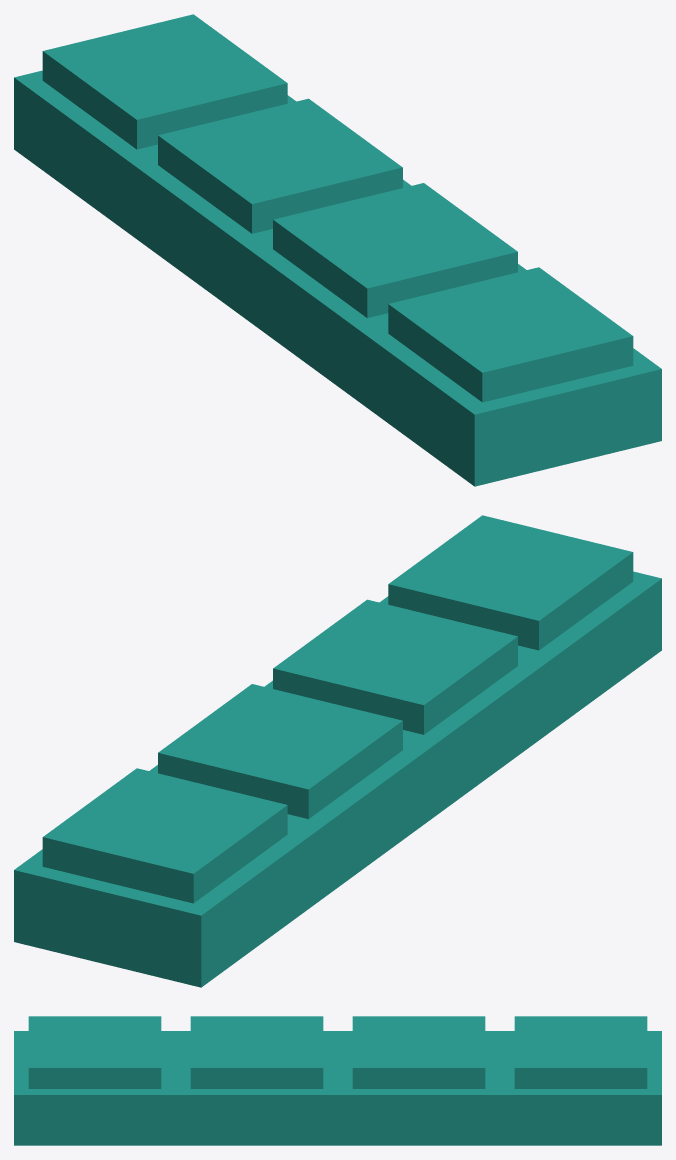
Rendered from Lego_Part_14.fbx.
3 views of the same model, one above another, from view 1: azimuth 30°, elevation 25°; view 2: azimuth 150°, elevation 25°; view 3: azimuth 270°, elevation 25° (orthographic). The views are drawn at different scales.
Visible parts, largest first — view 1: Lego_Part_14; view 2: Lego_Part_14; view 3: Lego_Part_14.
Part boxes in pixels (x1,y1,x2,y2): Lego_Part_14: [14, 14, 661, 486]; Lego_Part_14: [14, 515, 661, 987]; Lego_Part_14: [14, 1016, 661, 1145].
Bounding box in the file's own units: 2.08 × 1.08 × 8.86.
Materials: 1 (1 with a texture image).
